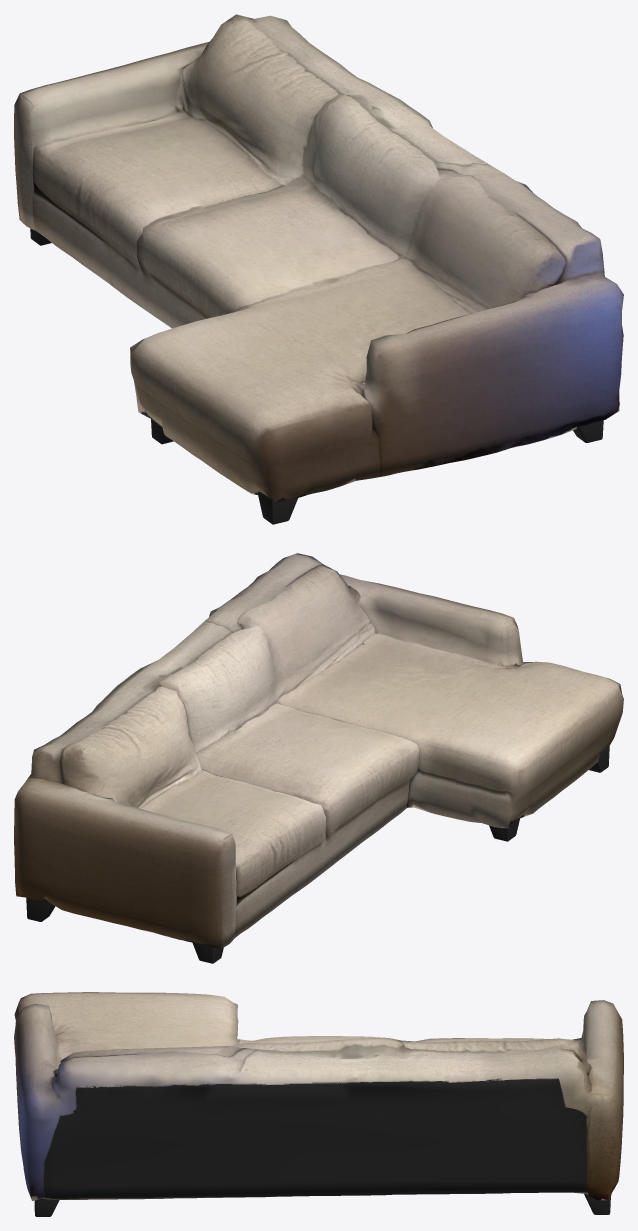
Rendered from couch_lowpoly_by_Luka_Coza.fbx.
3 renders of one model, top to bottom at view 1: azimuth 30°, elevation 25°; view 2: azimuth 150°, elevation 25°; view 3: azimuth 270°, elevation 25°, orthographic. The views are drawn at different scales.
Visible parts, largest first — view 1: couch_lowpoly_Luka_Coza; view 2: couch_lowpoly_Luka_Coza; view 3: couch_lowpoly_Luka_Coza.
Boxes of the visible parts, box(x1,y1,x2,y2) form: couch_lowpoly_Luka_Coza: box(14, 14, 623, 524); couch_lowpoly_Luka_Coza: box(14, 553, 623, 963); couch_lowpoly_Luka_Coza: box(14, 992, 623, 1216).
Size of the model in its own units: 170 by 82.2 by 283.
